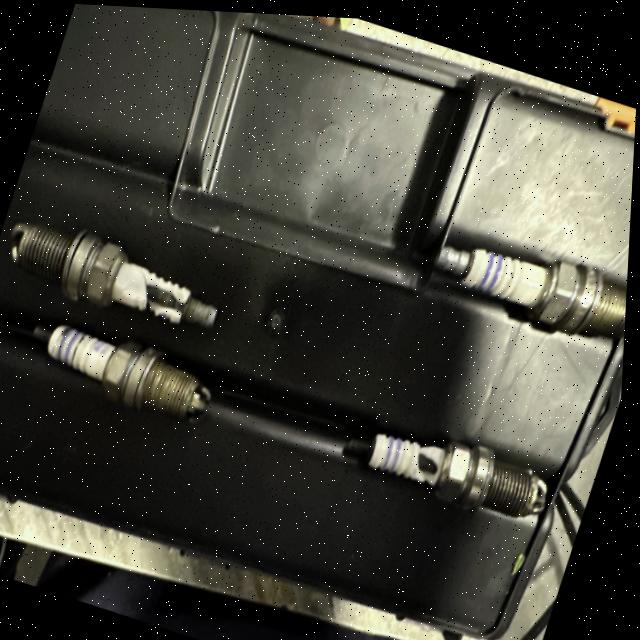damaged_spark-plug: (0, 205, 247, 349), (337, 394, 570, 537)
spark-plug: (8, 294, 237, 443), (420, 206, 632, 351)
